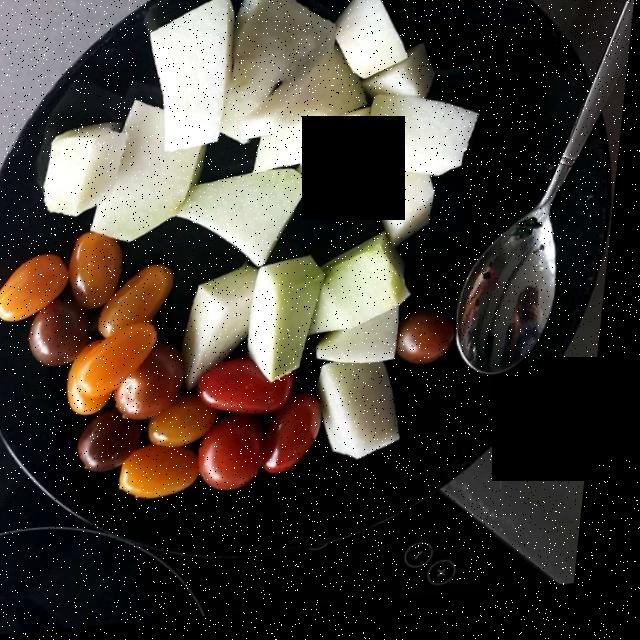kolhrabi: (37, 0, 485, 468)
tomato-raw: (0, 236, 456, 503)
